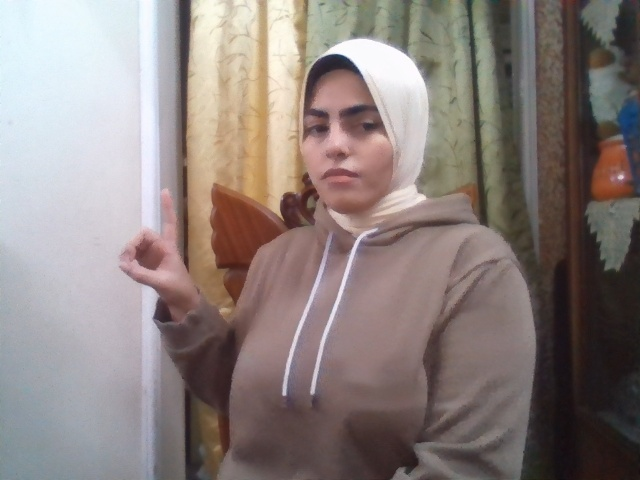D: (119, 188, 192, 306)
